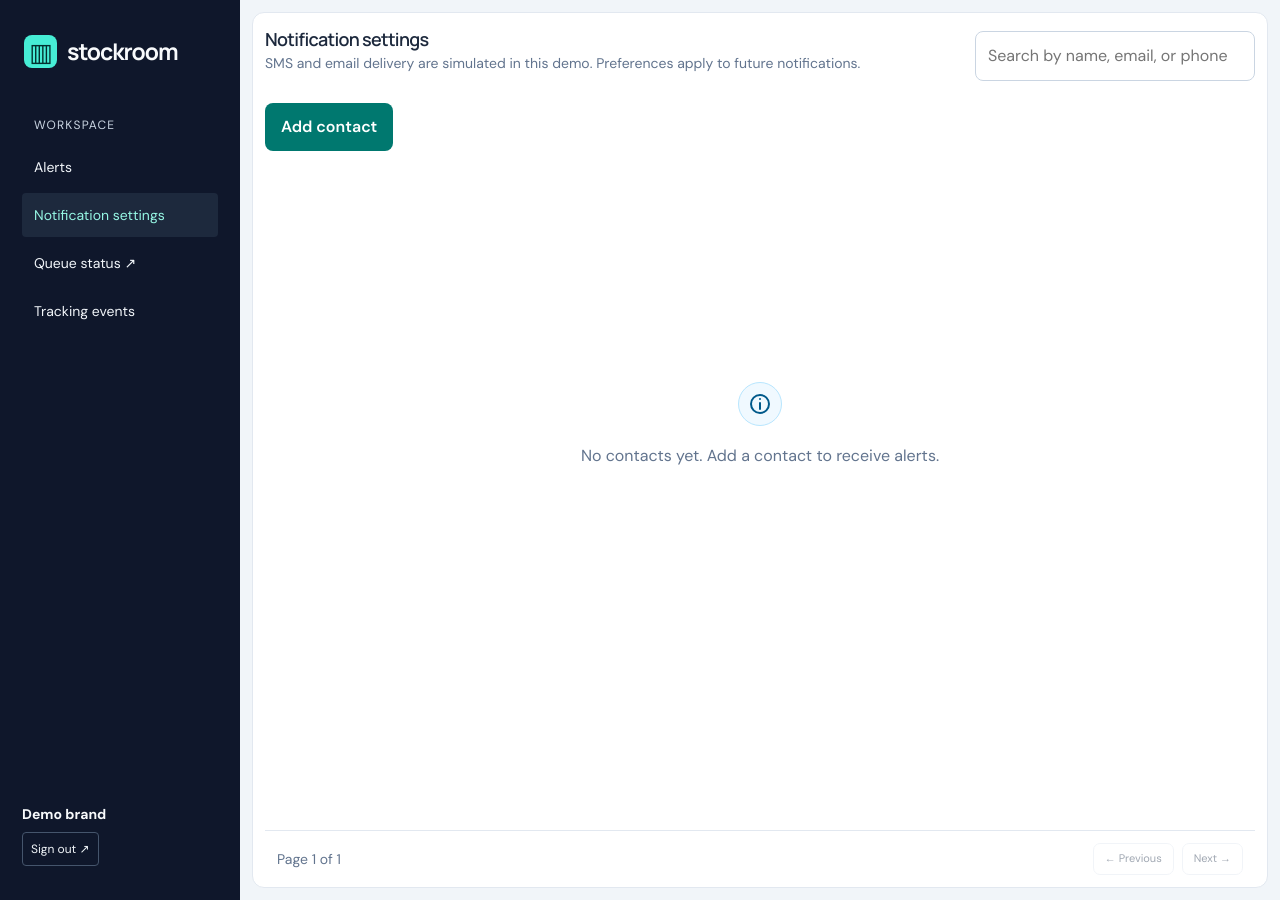
Test: opens queue status from the sidebar and highlights the selected view
Click the link "Queue status ↗" at (85, 262), box [34, 254, 136, 272]
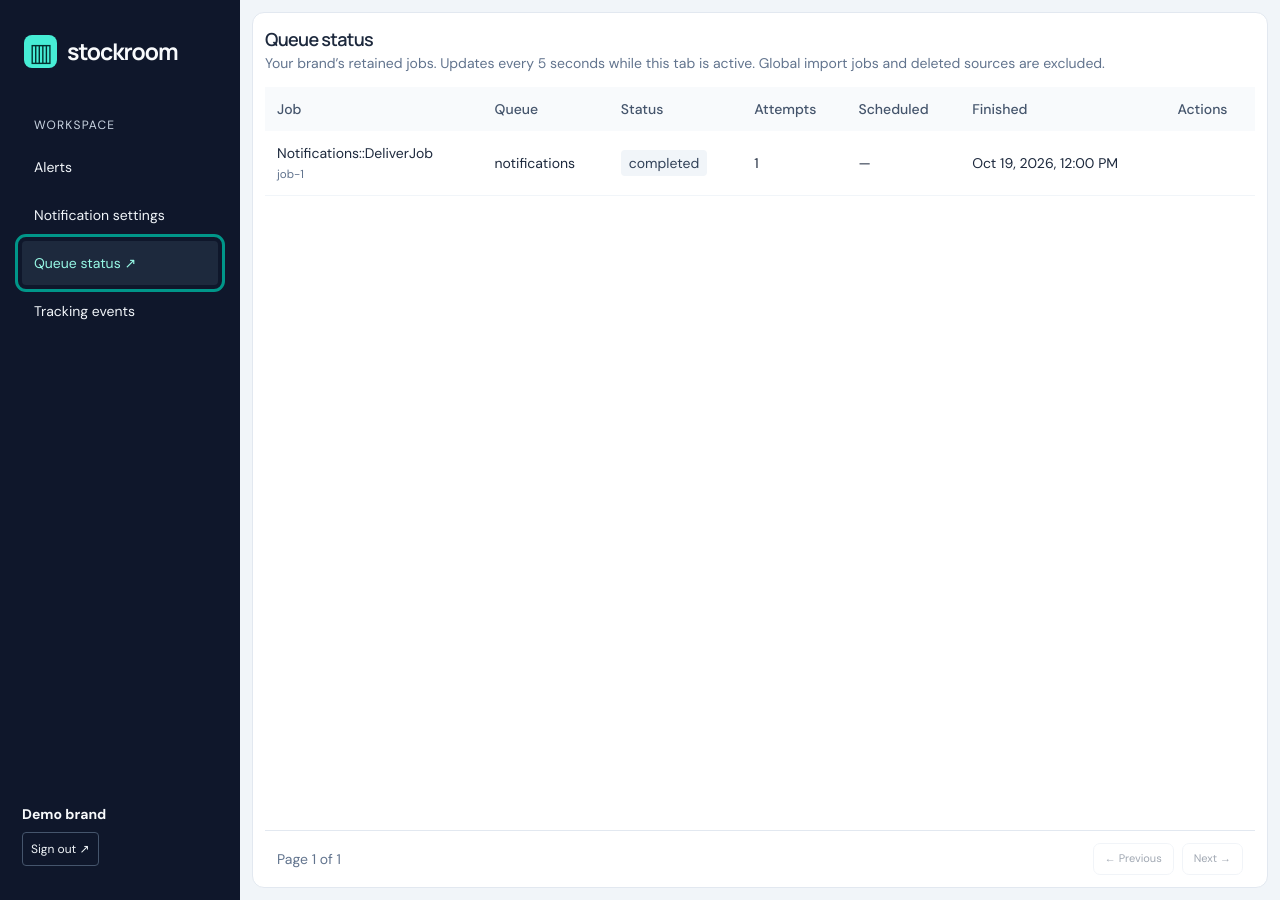
Expected: the text "Notifications::DeliverJob" is shown, [277, 144, 433, 162]
Expected: the text "completed" is shown, [621, 150, 707, 176]
